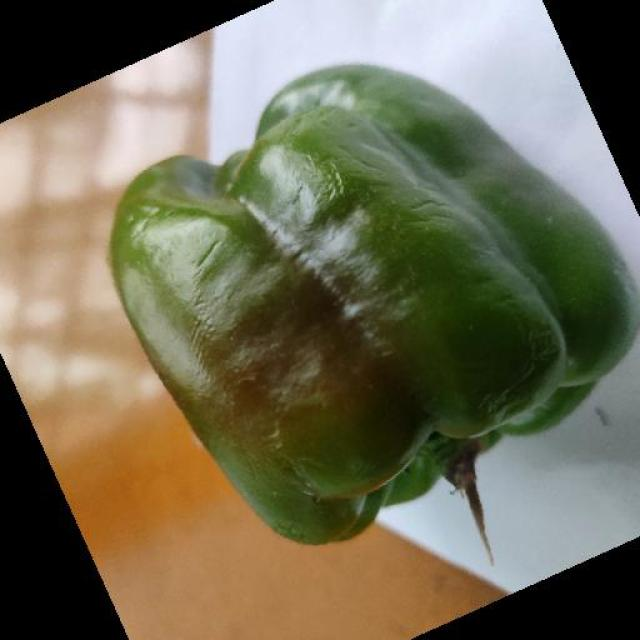Stale_Capsicum: (92, 89, 554, 557)
